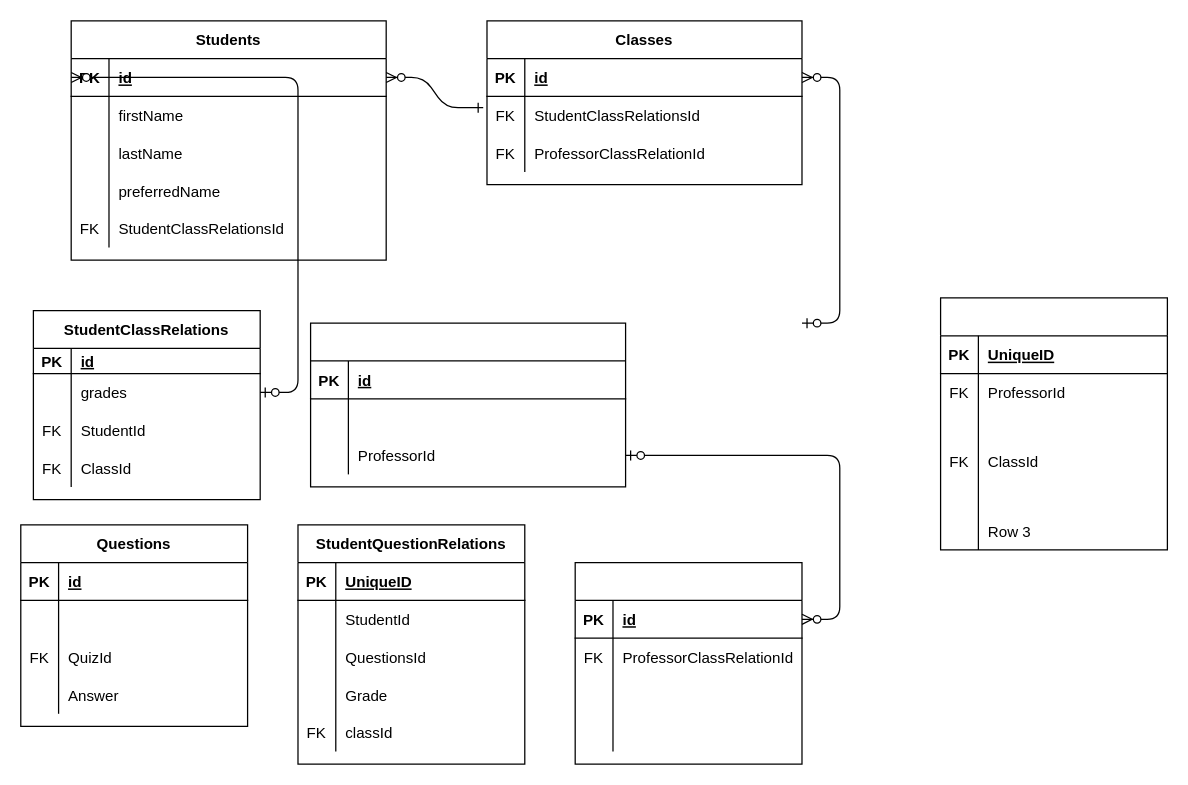
Some shapes in this 1188 by 785 pixel diagram are drawn without their labels. The box of each missing label's shape, as (x1, y1, x2, y2) in pixels:
ProfessorClassRelations: (939, 297, 1167, 550)
Professors: (574, 561, 802, 764)
Quiz: (309, 322, 626, 487)
